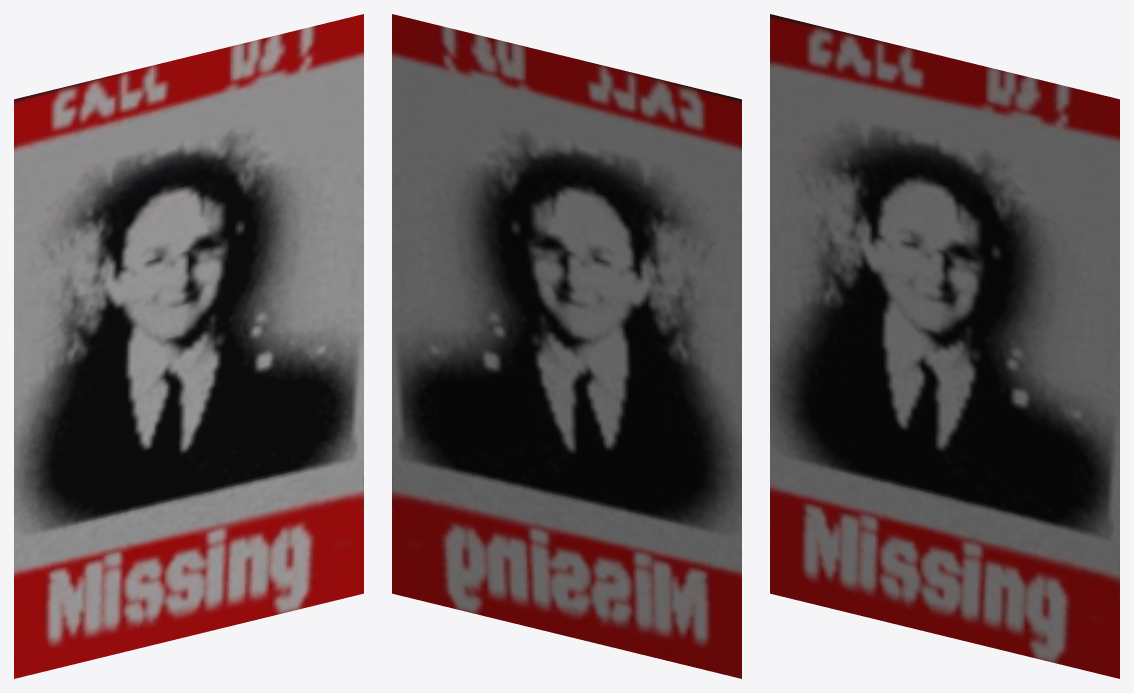
File: Missing Poster.fbx
3 views of the same model, side by side, from view 1: azimuth 30°, elevation 25°; view 2: azimuth 150°, elevation 25°; view 3: azimuth 330°, elevation 25° (orthographic).
Visible parts, largest first — view 1: pPlane1; view 2: pPlane1; view 3: pPlane1.
Part boxes in pixels (bbox=[...]): pPlane1: bbox=[14, 14, 363, 678]; pPlane1: bbox=[392, 14, 741, 678]; pPlane1: bbox=[770, 14, 1119, 678].
Bounding box in the file's own units: 1.4 × 2.22 × 1.36e-16.
Materials: 1 (1 with a texture image).
